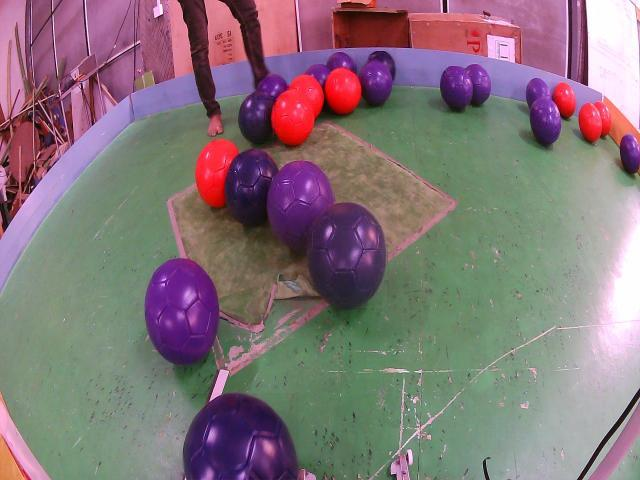jambhalya: (145, 258, 220, 365), (267, 160, 334, 249), (530, 96, 561, 145), (359, 60, 392, 105), (440, 66, 472, 110), (465, 64, 491, 105), (257, 73, 288, 100), (620, 134, 640, 173), (526, 79, 551, 108), (306, 64, 331, 90), (327, 52, 355, 73)
kaalyya: (183, 394, 299, 480), (307, 202, 387, 308), (225, 148, 278, 227), (239, 92, 274, 143), (368, 52, 396, 79)
